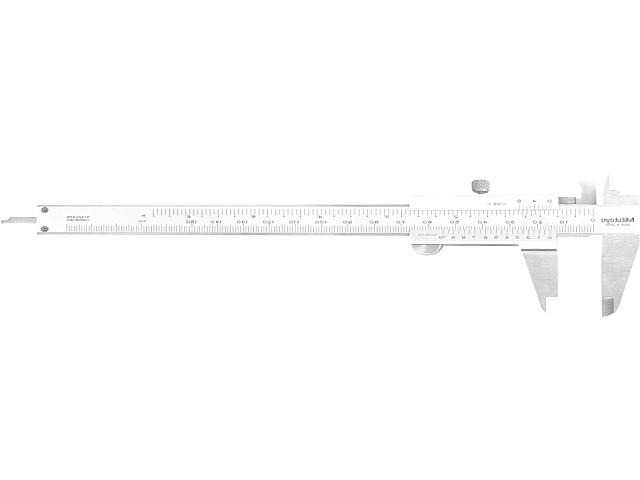Calipers: (2, 166, 640, 316)
